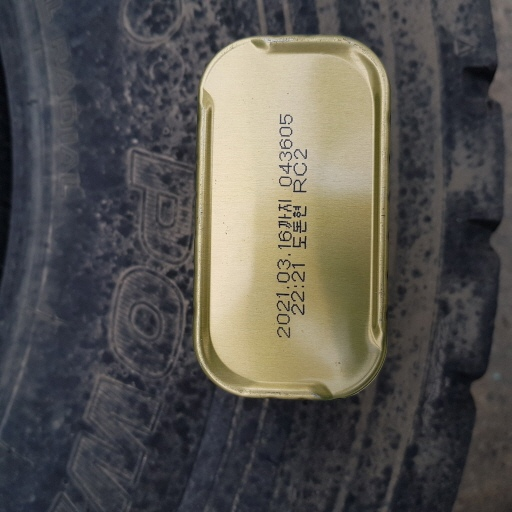Metal_2: (189, 30, 396, 401)
